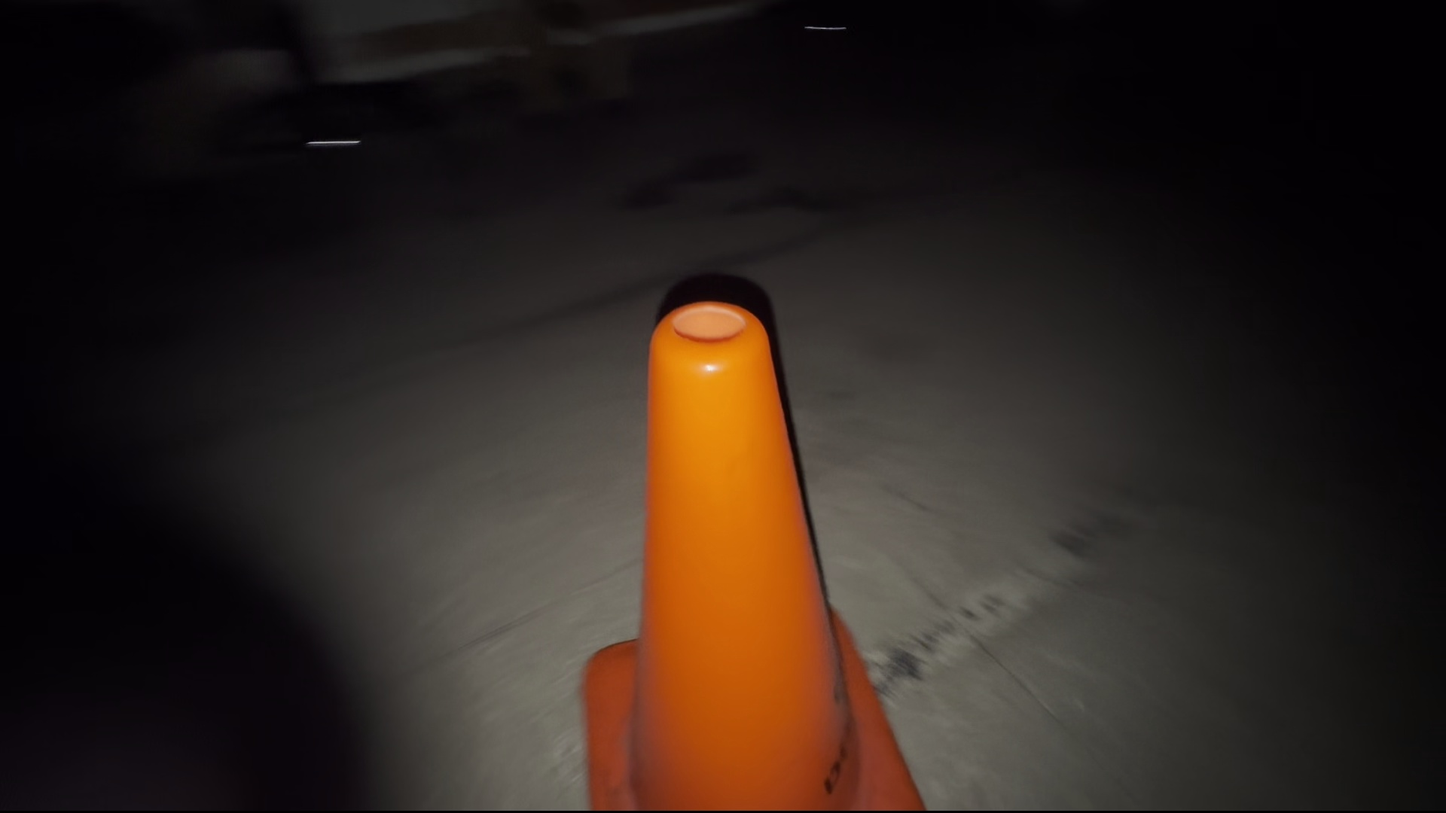traffic_cone: (582, 298, 927, 811)
